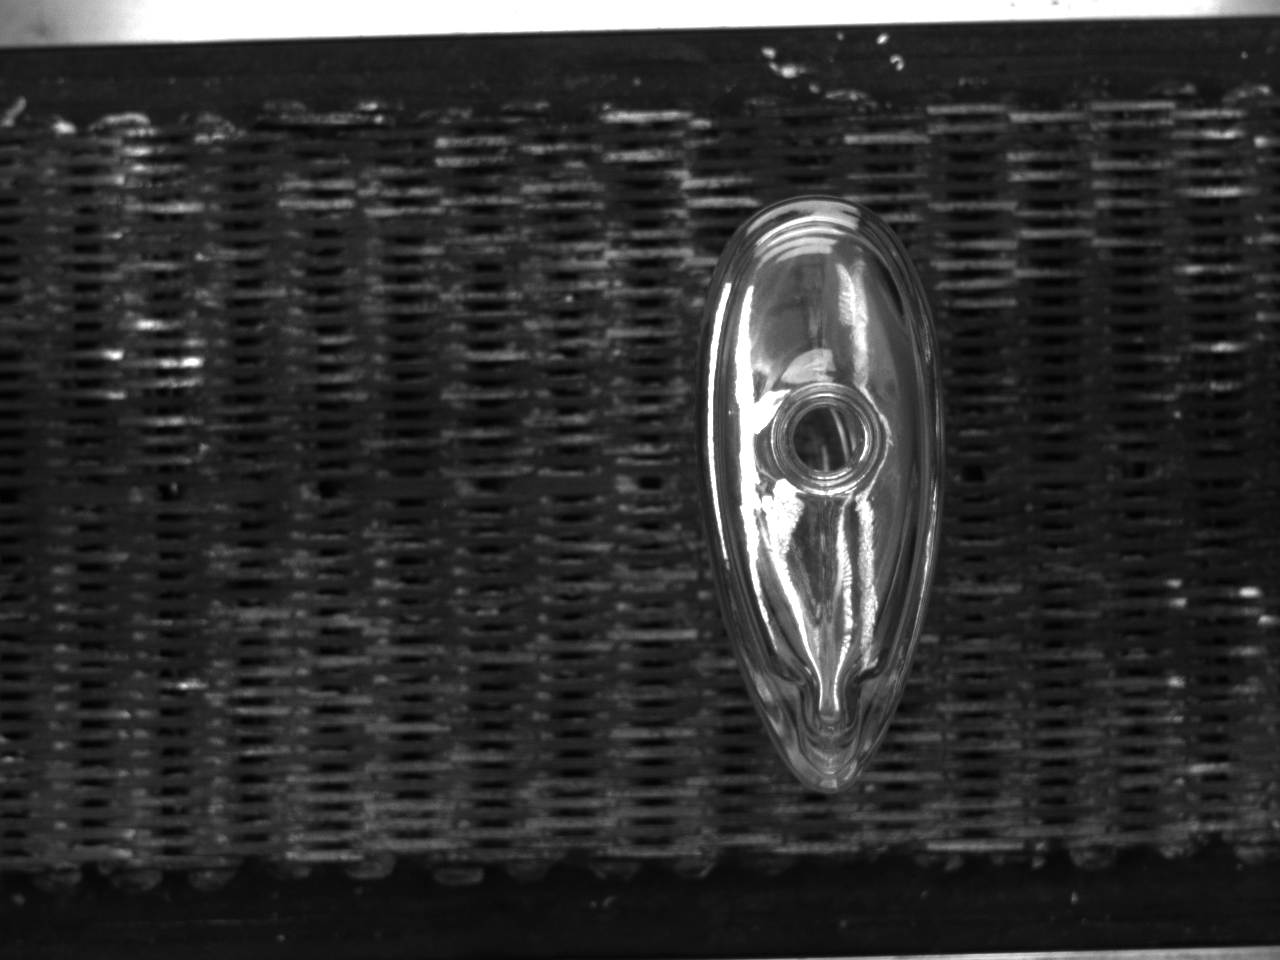bottleneck: (769, 383, 884, 494)
